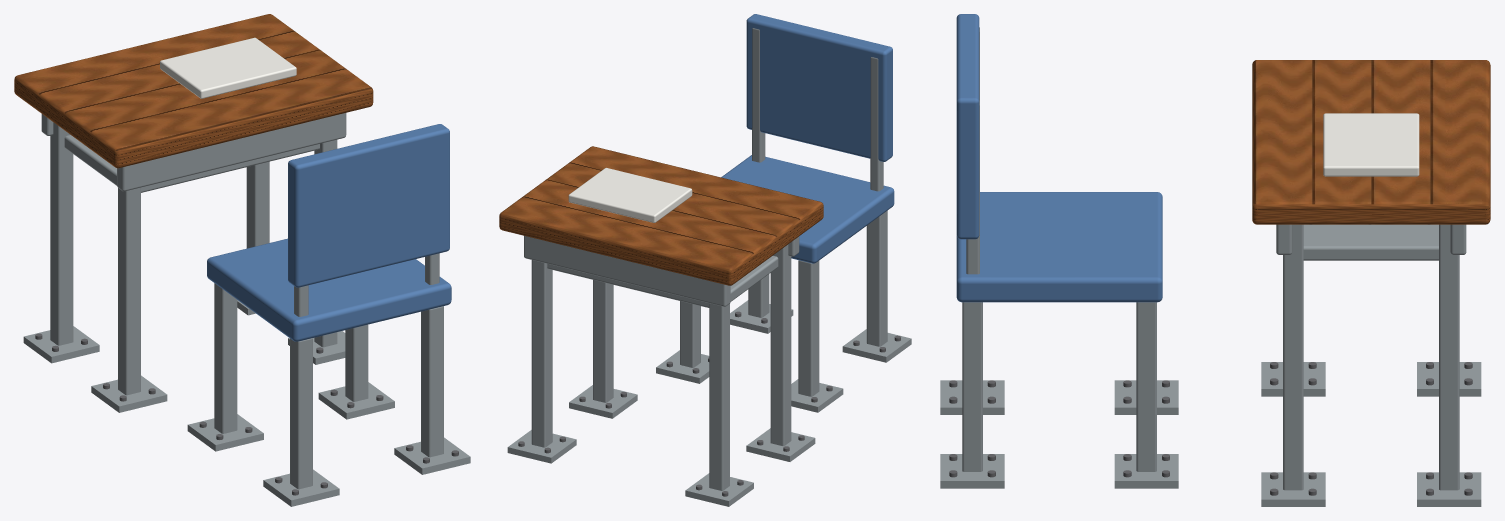
Rendered from prison-complex-builder-classroom-desk-ae9dbd77__25671.glb.
3 renders of one model, left to right at view 1: azimuth 30°, elevation 25°; view 2: azimuth 150°, elevation 25°; view 3: azimuth 270°, elevation 25°, orthographic. The views are drawn at different scales.
Visible parts, largest first — view 1: classroom-desk; view 2: classroom-desk; view 3: classroom-desk.
Part boxes in pixels (left/top/right/bottom): classroom-desk: left=14, top=14, right=470, bottom=506; classroom-desk: left=499, top=14, right=911, bottom=506; classroom-desk: left=940, top=14, right=1490, bottom=506.
Size of the model in its own units: 0.75 by 0.92 by 1.2.
5 materials, 1 textured.
